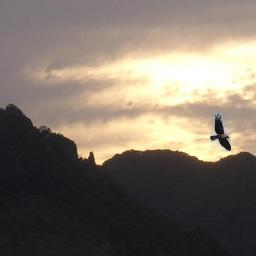Crow: (210, 113, 231, 151)
